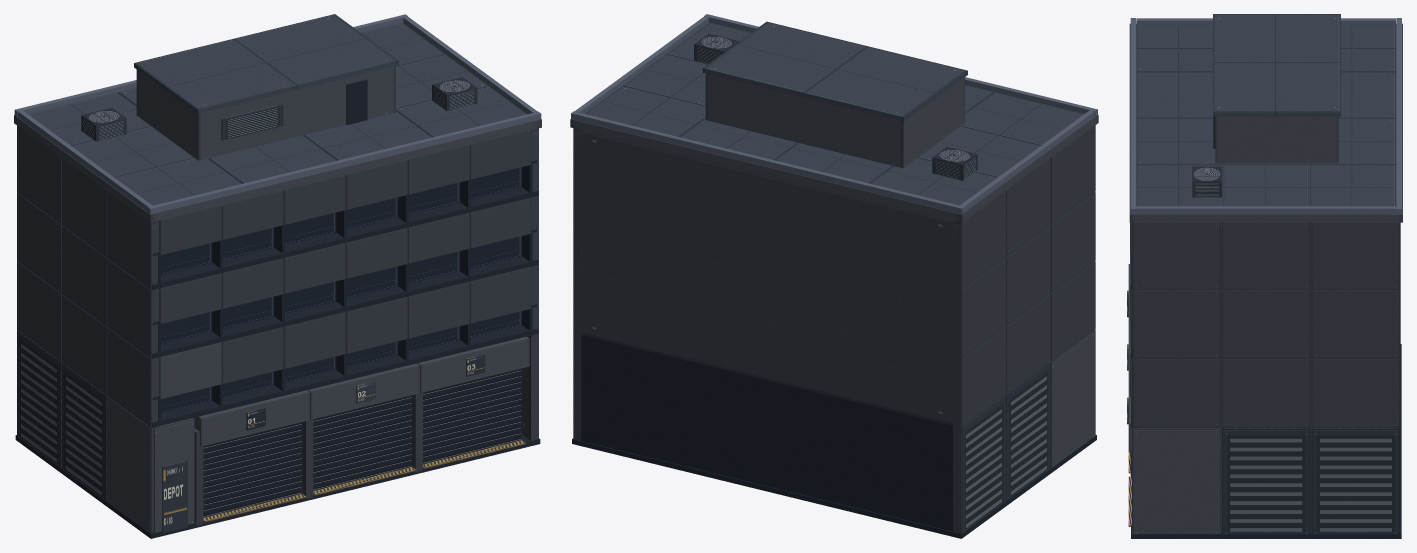
File: depot_closed.glb
3 views of the same model, side by side, from view 1: azimuth 30°, elevation 25°; view 2: azimuth 150°, elevation 25°; view 3: azimuth 270°, elevation 25° (orthographic).
Visible parts, largest first — view 1: Architecture, Shutter_1, Shutter_2, Shutter_3, Window_03_04, Window_02_04, Window_02_05, Window_03_05, Window_02_03, Window_02_06, Window_02_02, Window_03_03 (+10 smaller); view 2: Architecture; view 3: Architecture.
Part boxes in pixels (x1,y1,x2,y2): Architecture: (14, 14, 541, 538); Shutter_1: (203, 422, 301, 517); Shutter_2: (313, 395, 411, 490); Shutter_3: (423, 368, 521, 463); Window_03_04: (346, 197, 398, 229); Window_02_04: (346, 266, 398, 298); Window_02_05: (408, 251, 460, 283); Window_03_05: (408, 182, 460, 214); Window_02_03: (285, 281, 336, 313); Window_02_06: (470, 236, 521, 268); Window_02_02: (223, 296, 274, 328); Window_03_03: (285, 212, 336, 244); Architecture: (570, 14, 1098, 538); Architecture: (1127, 14, 1402, 538).
Size of the model in its own units: 15.16 by 13.98 by 9.25.
1 material, 1 textured.
